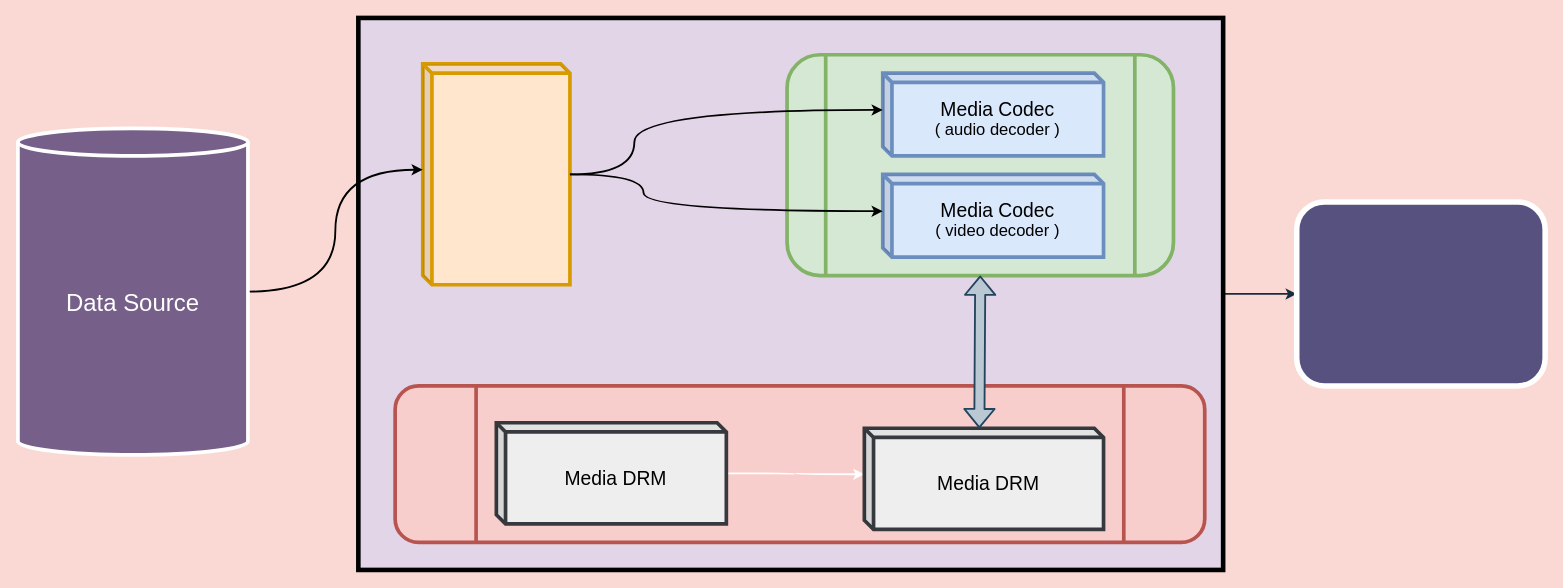
Image size: 1563x588. Some labels were removed from this diagram. The shapes that lost their labels are listed below. From the top down, each one's box as (x1, y1, x2, y2) in pixels, then its label:
(420, 62, 571, 286): Media Extractor
(1294, 199, 1547, 388): Surface
